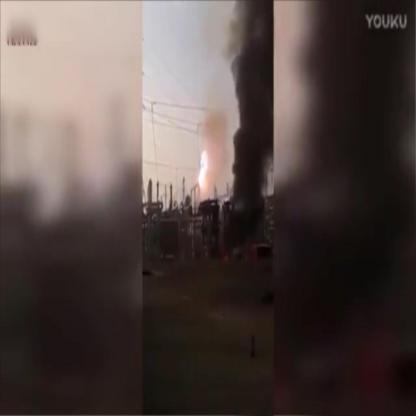smoke: (230, 2, 274, 131), (232, 134, 270, 207), (204, 114, 228, 188)
